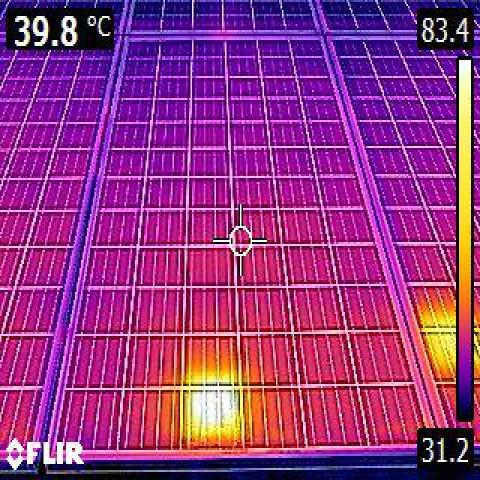fault: (187, 386, 235, 445)
